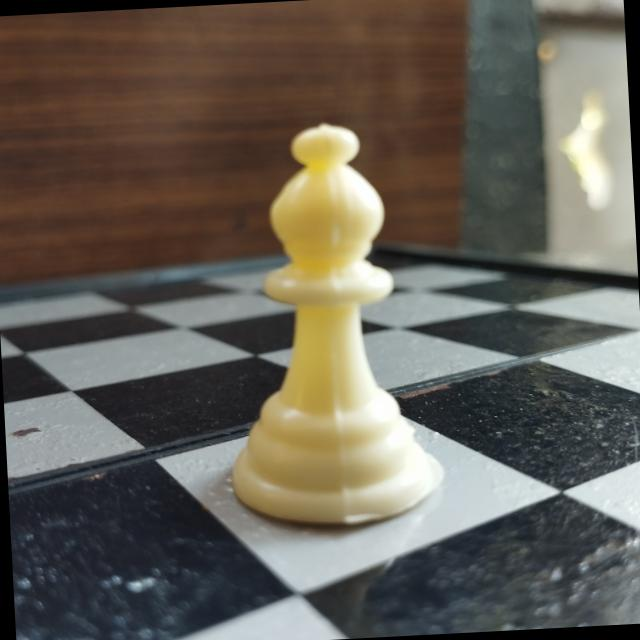White Bishop: (215, 110, 452, 533)
